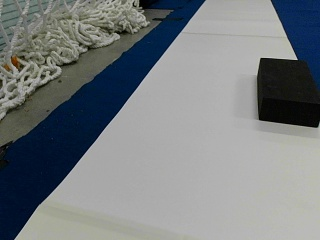block: (257, 57, 319, 127)
